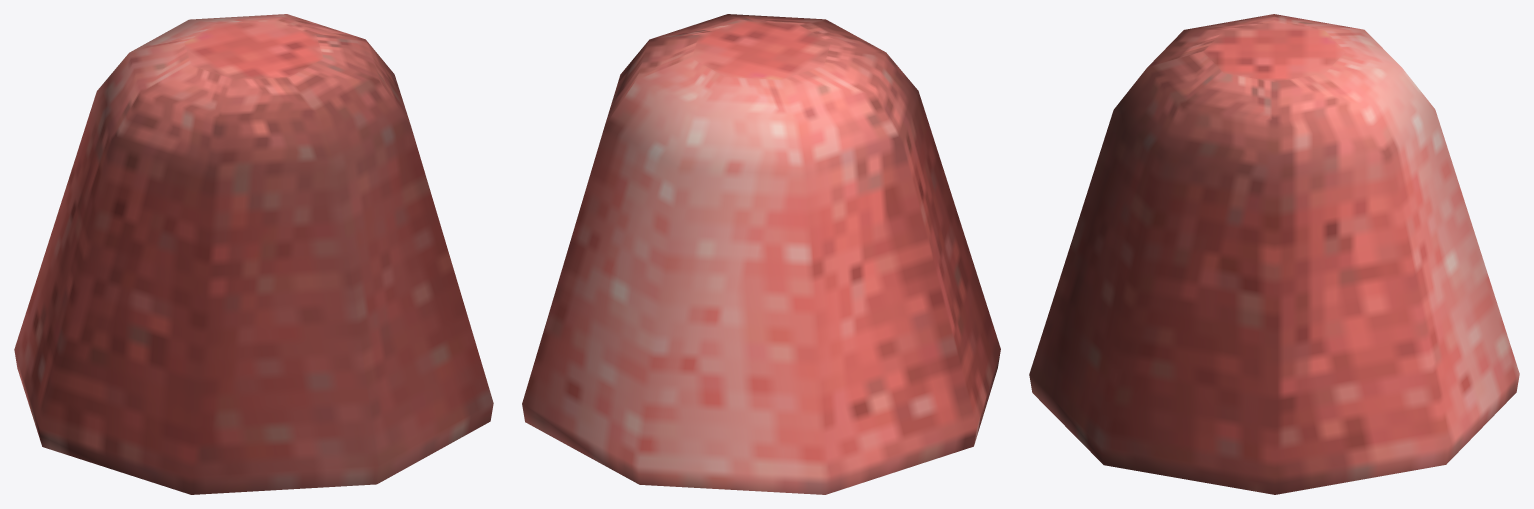
Rendered from GumDrop.fbx.
3 renders of one model, left to right at view 1: azimuth 30°, elevation 25°; view 2: azimuth 150°, elevation 25°; view 3: azimuth 270°, elevation 25°, orthographic.
Parts seen in each view (by area): view 1: GumDrop_4_Variant; view 2: GumDrop_4_Variant; view 3: GumDrop_4_Variant.
Boxes of the visible parts, x1,y1,x2,y2 form: GumDrop_4_Variant: (14,14,493,494); GumDrop_4_Variant: (522,14,1000,494); GumDrop_4_Variant: (1029,14,1519,494).
Size of the model in its own units: 85.3 by 65.36 by 85.3.
